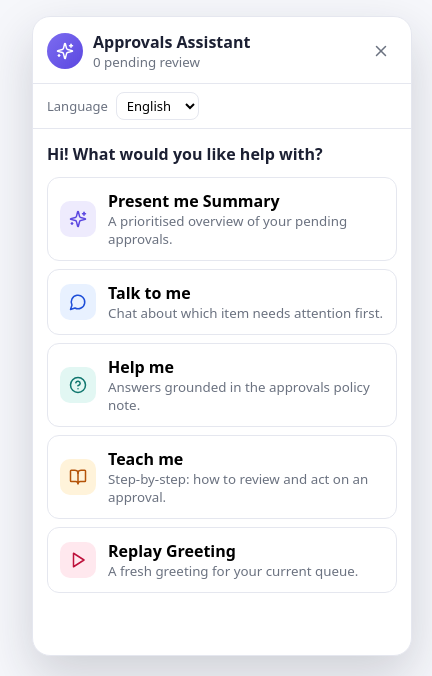
Test: Dev inspector › shows nothing extra to a normal user
The image size is (432, 676).
Click the button "Replay Greeting A fresh greeting for your current queue.": (222, 560) [47,527,397,593]
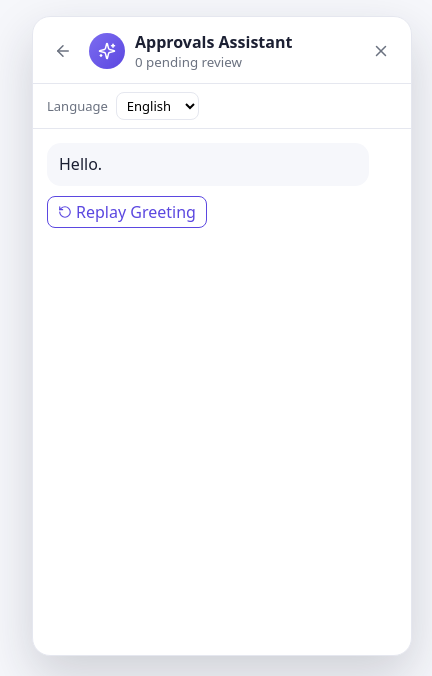
Expected: the text "Hello." is shown, [47,143,369,186]
